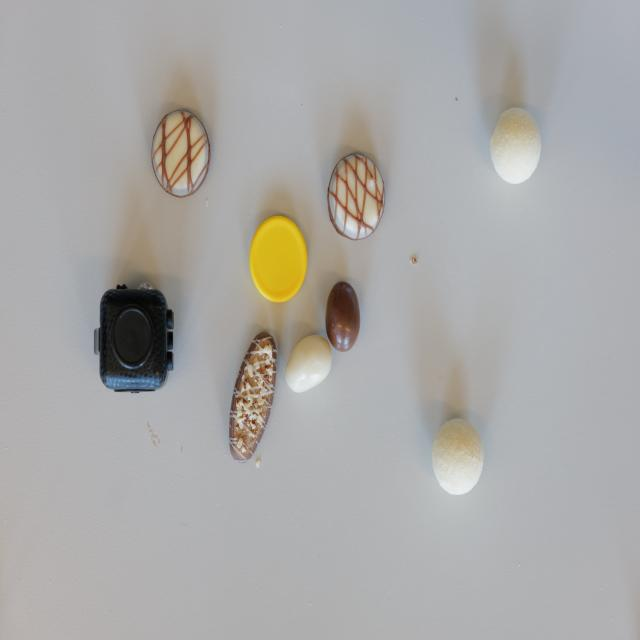Amandina: (229, 332, 276, 464)
Comtesse: (432, 419, 484, 497), (490, 106, 541, 184)
Creme_brulee: (151, 106, 211, 197), (327, 153, 383, 239)
Jelly_Milk: (325, 281, 360, 352)
Jelly_White: (286, 333, 332, 394)
